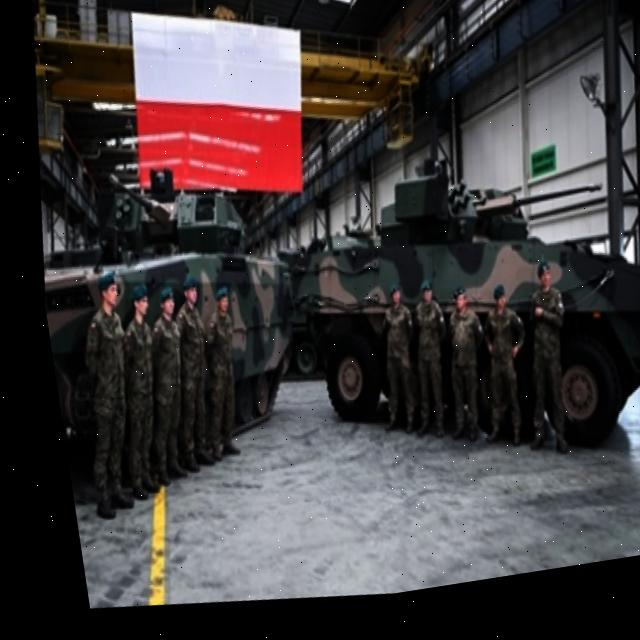MIL_APC: (255, 143, 640, 517), (20, 136, 317, 510)
